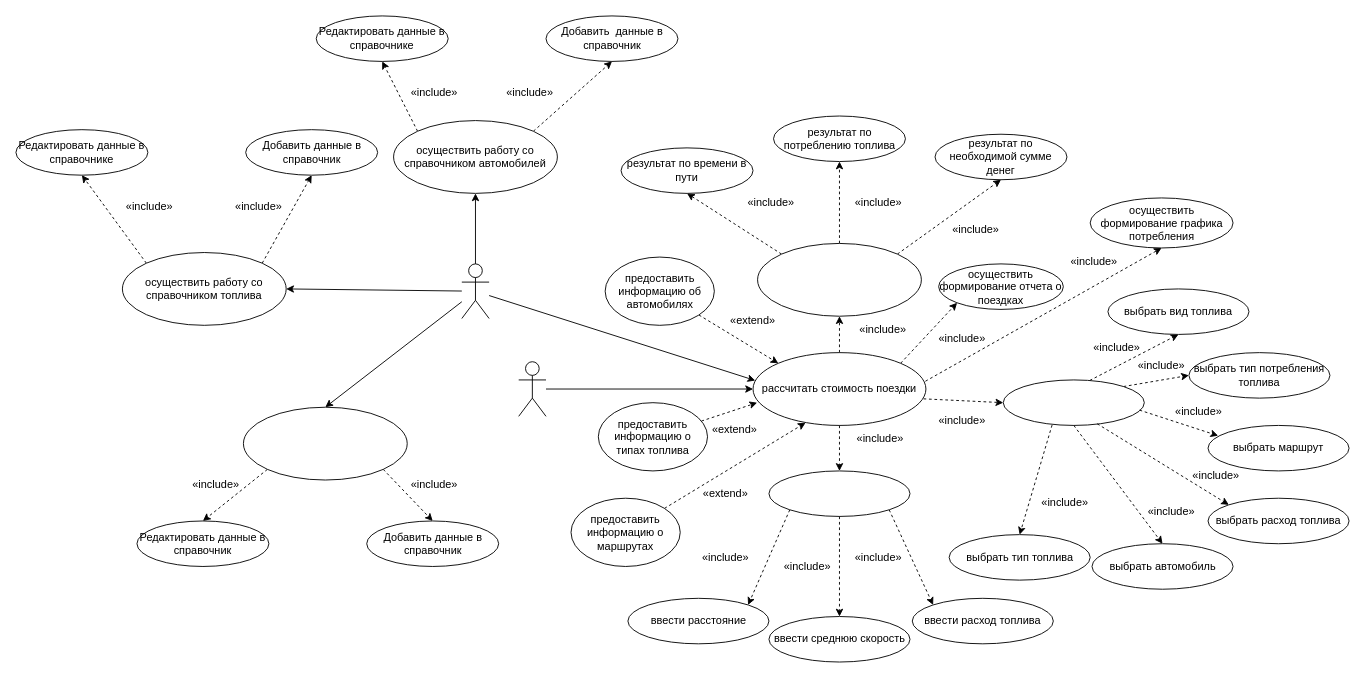
The diagram is 1365 pixels wide and 678 high, and some of its shapes have lost their labels. Here are the shapes that lost their labels. From the top down, the box of each, then its label:
(461, 263, 489, 318): Администратор
(757, 243, 921, 316): осуществить формирование результата
(518, 361, 546, 416): Пользователь
(1002, 379, 1144, 425): выбрать данные
(243, 406, 407, 480): осуществить работу со справочником маршрутов
(768, 470, 910, 516): ввести данные
